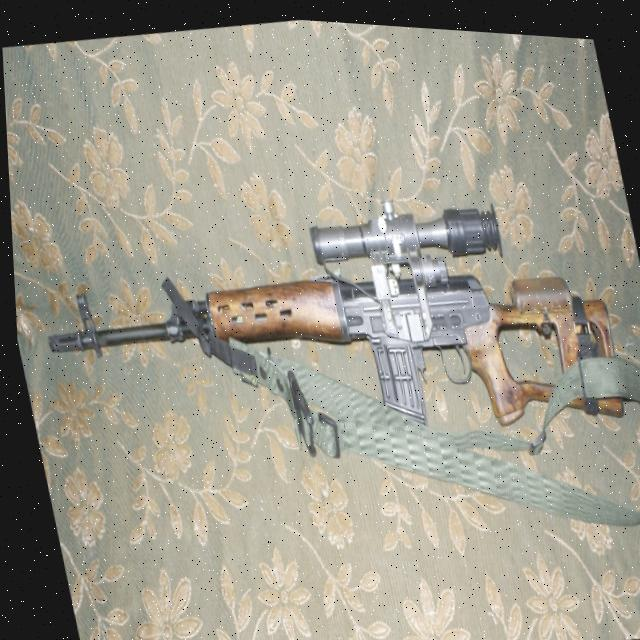firearm: (19, 138, 629, 500)
